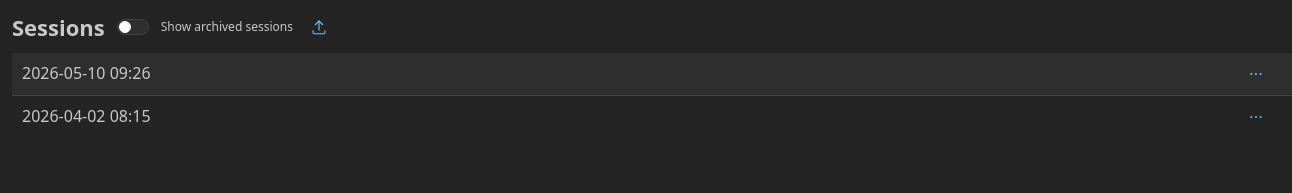
every session row's menu offers Export (US-081.AC-1) › an active row's Actions menu contains an Export item — DoD-6
Step 1. Click the button named "actions for " → [1256, 74], box [1242,60,1270,88]
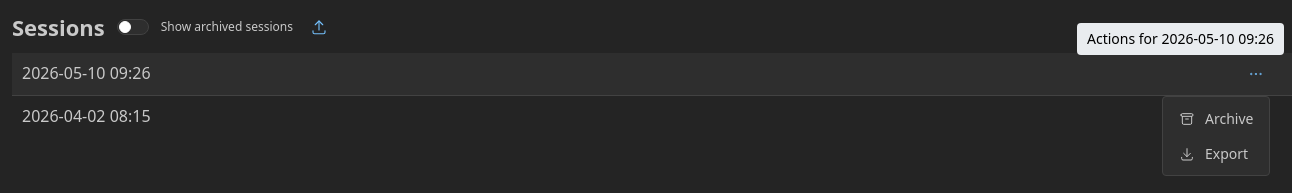
Expected: the menu item "Archive" is shown, [1166,101,1265,136]
Expected: the menu item "Export" is shown, [1166,136,1265,171]
